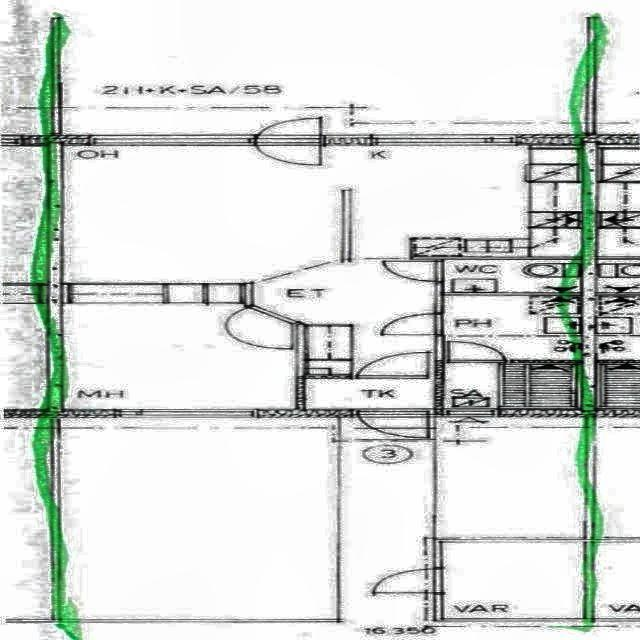room: (62, 285, 297, 409), (443, 295, 585, 359), (441, 362, 579, 409), (443, 259, 582, 293), (303, 377, 434, 408)
